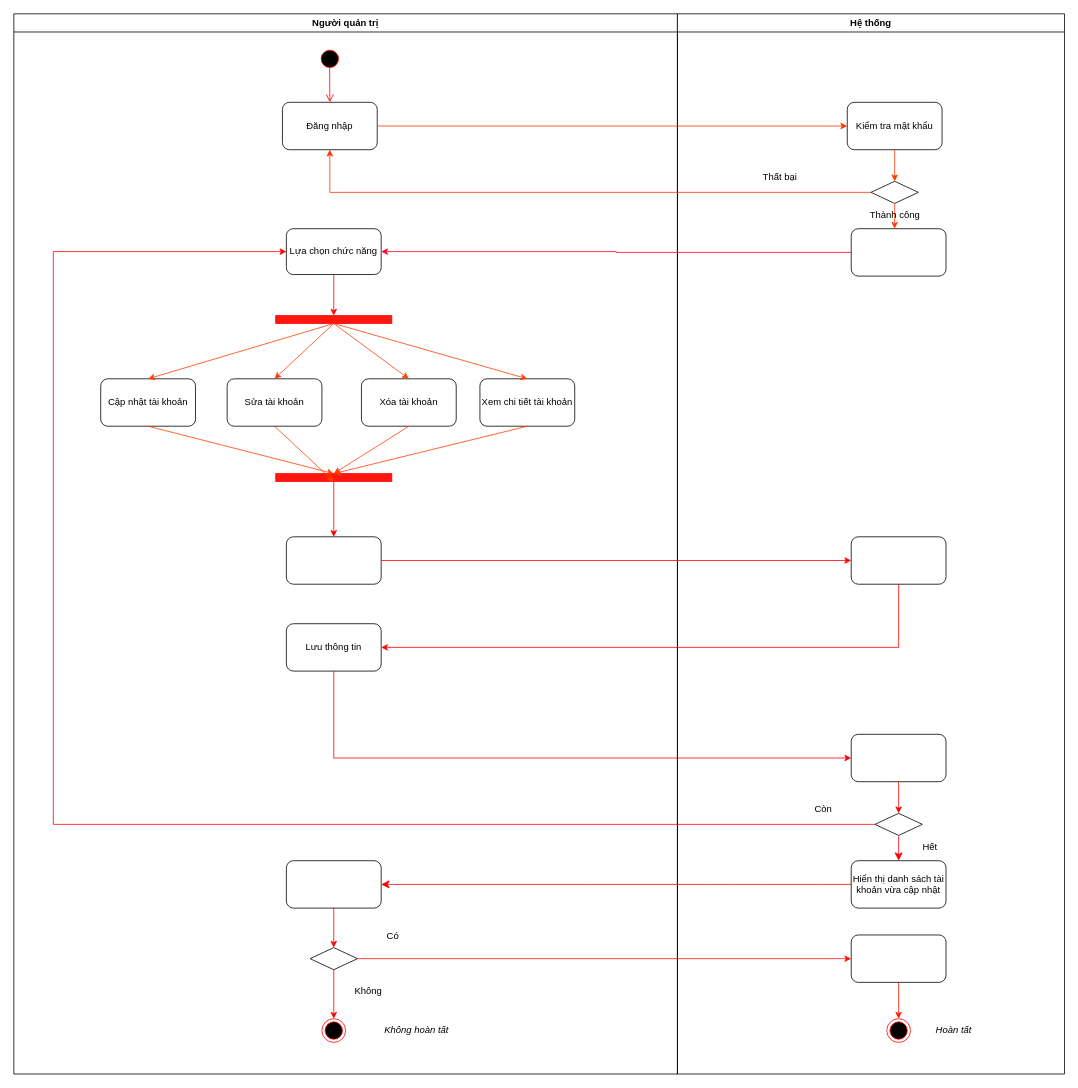
Image size: 1078x1088. Some labels were removed from this diagram. The shapes that lost their labels are listed below. From the top down, each one's centre as x and y in pixels, then its label:
At (898,252): "Hiển thị danh sách tài khoản".
At (333,560): "Nhập thông tin tài khoản".
At (898,560): "Cung cấp thông tin phản hồi".
At (898,758): "Kết quả 1 tài".
At (333,884): "Chấp nhận".
At (898,958): "Thông báo thành công".
